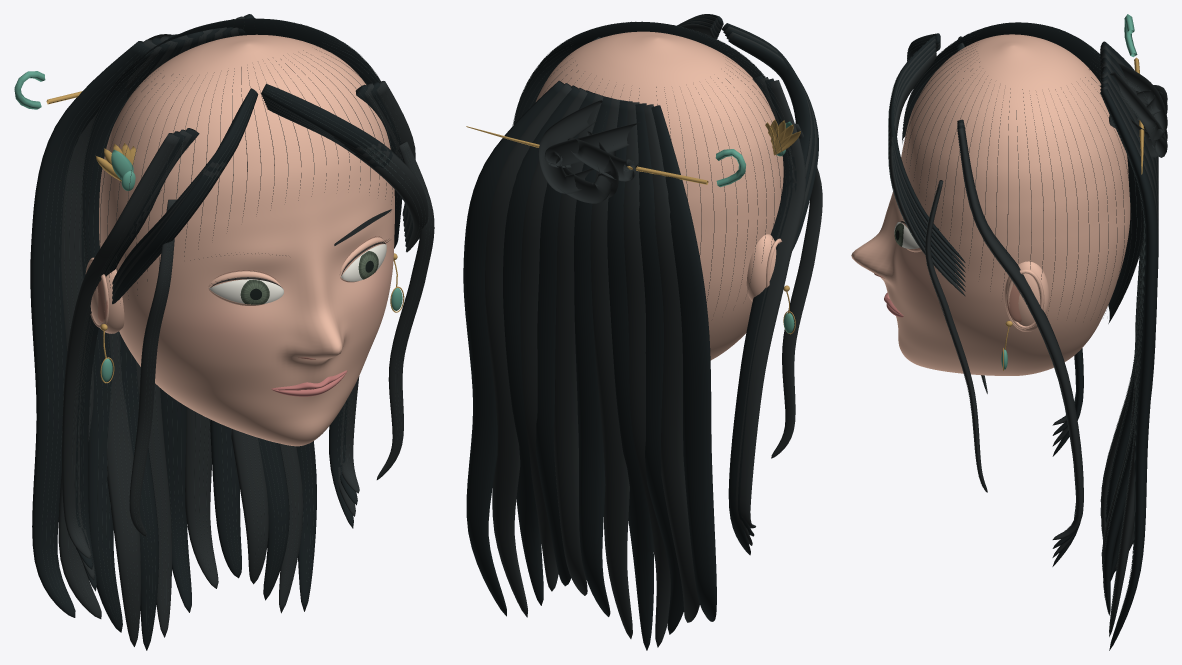
File: qingheng-game-head-v2.glb
3 views of the same model, side by side, from view 1: azimuth 30°, elevation 25°; view 2: azimuth 150°, elevation 25°; view 3: azimuth 270°, elevation 25° (orthographic). The views are drawn at different scales.
Parts seen in each view (by area): view 1: QH2_Face_continuous_sculpt.001_game, QH2_Brow_fiber_-1_0.001_game, QH2_Brow_shape_-1.001_game, QH2_Back_hair_00_fiber_0.001_game, QH2_Ear_-1.001_game, QH2_Hairpin_jade_head.001_game, QH2_Sclera_almond_-1.001_game, QH2_Hairpin_shaft.001_game, QH2_Radial_iris_-1.001_game, QH2_Upper_lip.001_game; view 2: QH2_Brow_fiber_-1_0.001_game, QH2_Brow_shape_-1.001_game, QH2_Face_continuous_sculpt.001_game, QH2_Hairpin_shaft.001_game, QH2_Ear_-1.001_game, QH2_Hairpin_jade_head.001_game, QH2_Back_hair_00_fiber_0.001_game; view 3: QH2_Face_continuous_sculpt.001_game, QH2_Brow_fiber_-1_0.001_game, QH2_Brow_shape_-1.001_game, QH2_Back_hair_00_fiber_0.001_game, QH2_Ear_-1.001_game, QH2_Hairpin_jade_head.001_game.
Part boxes in pixels (box(x1,y1,x2,y2)): QH2_Face_continuous_sculpt.001_game: box(99, 34, 394, 446); QH2_Brow_fiber_-1_0.001_game: box(30, 14, 412, 650); QH2_Brow_shape_-1.001_game: box(58, 16, 434, 646); QH2_Back_hair_00_fiber_0.001_game: box(42, 22, 431, 647); QH2_Ear_-1.001_game: box(85, 237, 383, 333); QH2_Hairpin_jade_head.001_game: box(14, 71, 402, 381); QH2_Sclera_almond_-1.001_game: box(209, 244, 386, 303); QH2_Hairpin_shaft.001_game: box(46, 91, 404, 383); QH2_Radial_iris_-1.001_game: box(240, 251, 378, 304); QH2_Upper_lip.001_game: box(271, 370, 347, 396); QH2_Brow_fiber_-1_0.001_game: box(463, 14, 818, 650); QH2_Brow_shape_-1.001_game: box(485, 15, 822, 647); QH2_Face_continuous_sculpt.001_game: box(536, 31, 783, 360); QH2_Hairpin_shaft.001_game: box(466, 119, 800, 334); QH2_Ear_-1.001_game: box(746, 234, 781, 301); QH2_Hairpin_jade_head.001_game: box(715, 121, 794, 333); QH2_Back_hair_00_fiber_0.001_game: box(512, 21, 792, 295); QH2_Face_continuous_sculpt.001_game: box(851, 34, 1130, 375); QH2_Brow_fiber_-1_0.001_game: box(889, 22, 1158, 650); QH2_Brow_shape_-1.001_game: box(889, 24, 1167, 636); QH2_Back_hair_00_fiber_0.001_game: box(888, 24, 1155, 635); QH2_Ear_-1.001_game: box(902, 219, 1049, 331); QH2_Hairpin_jade_head.001_game: box(1001, 14, 1137, 369).
Bounding box in the file's own units: 0.3633 × 0.6913 × 0.3504.
